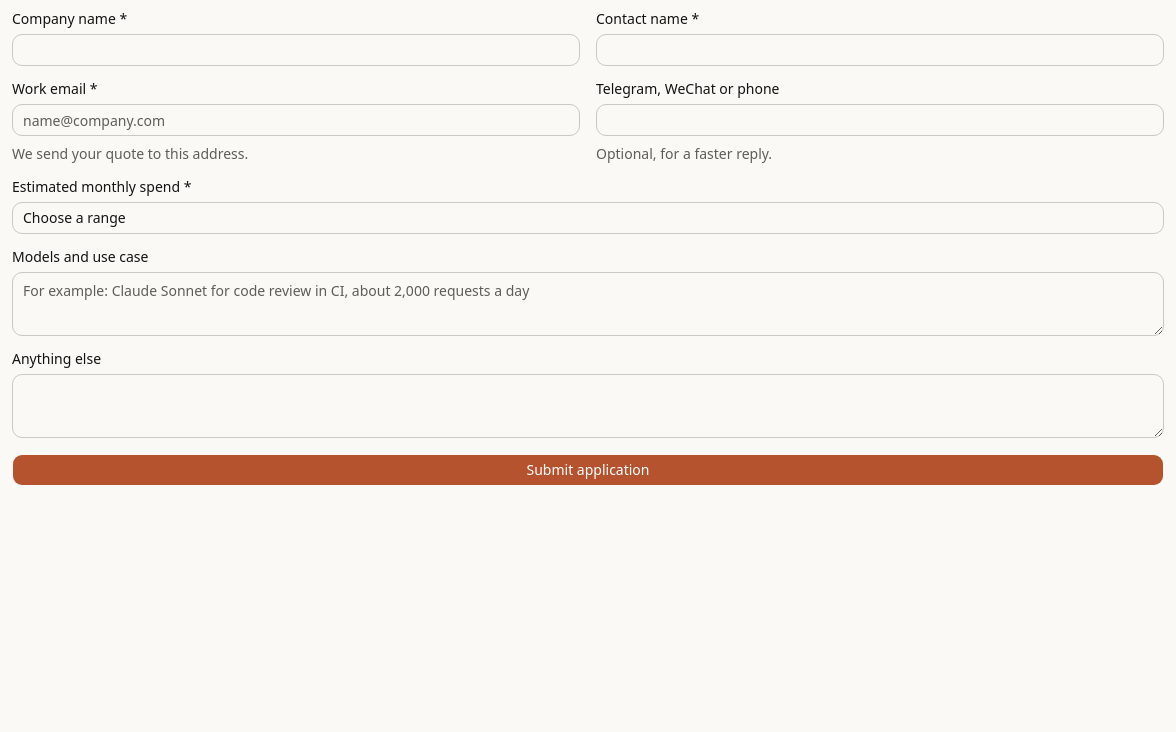
submitting an empty form marks the required fields and sends nothing
What coordinates should you click on to do the following:
click the button "Submit application"
I would click on:
 (588, 470)
Its box is [12,454,1164,486].
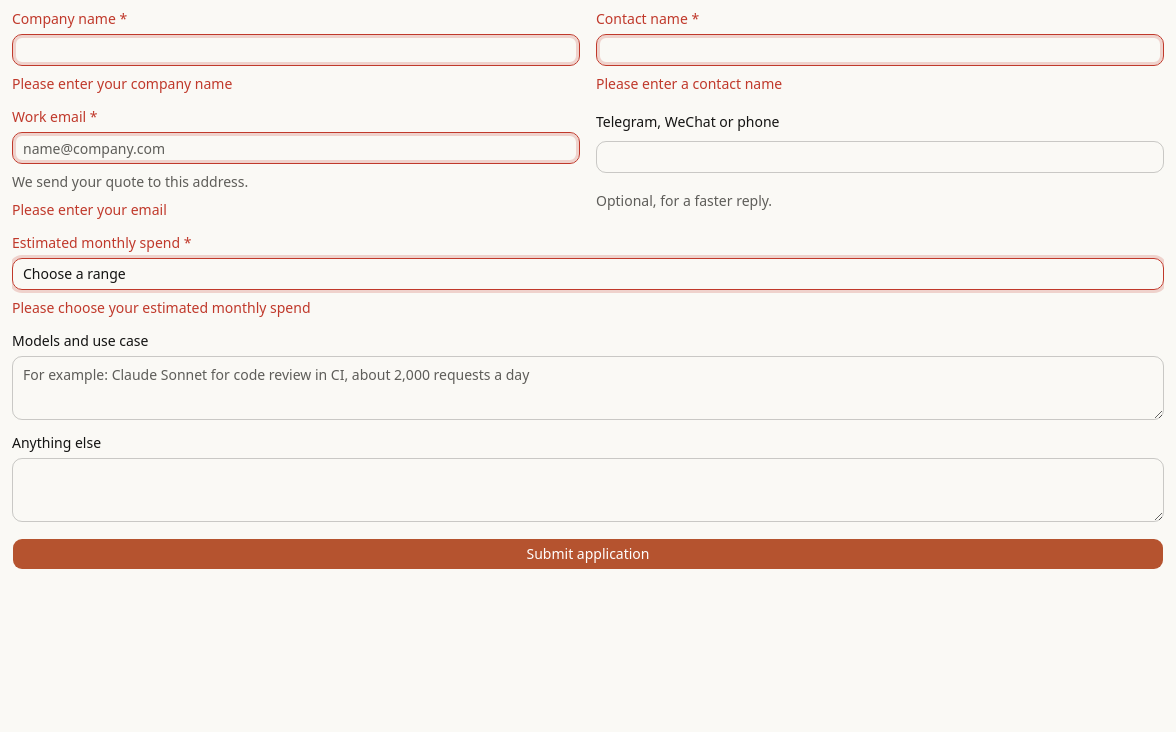
Now the text "Please enter your company name" is shown, box [12,74,232,93]
Now the text "Please enter a contact name" is shown, box [596,74,782,93]
Now the text "Please choose your estimated monthly spend" is shown, box [12,298,310,317]
